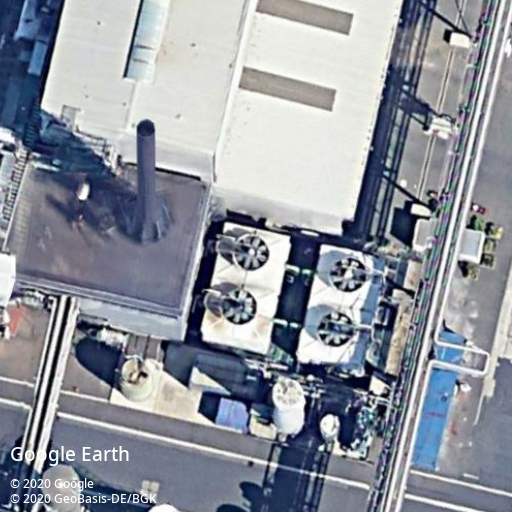Vent: (329, 256, 368, 293), (232, 234, 270, 271), (316, 311, 355, 347), (220, 289, 258, 325)
